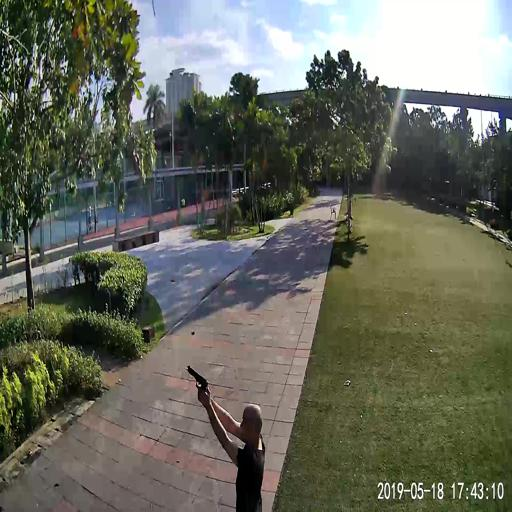pistol: (186, 363, 209, 393)
